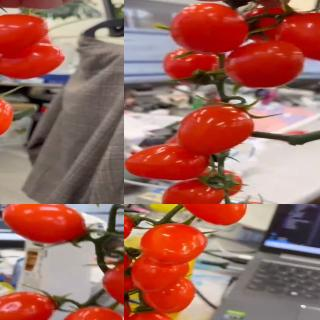tomato: (168, 0, 248, 53), (175, 100, 253, 154), (224, 40, 305, 89), (4, 204, 93, 247), (124, 141, 211, 181), (140, 221, 208, 263), (270, 11, 320, 63), (0, 42, 65, 80), (161, 47, 221, 86), (242, 6, 302, 44), (131, 253, 191, 290), (0, 12, 48, 55), (142, 276, 196, 313), (0, 290, 57, 320), (161, 178, 225, 204), (179, 204, 247, 226), (201, 169, 245, 201), (103, 259, 124, 312), (59, 306, 124, 320), (124, 263, 152, 292), (0, 94, 15, 136), (126, 310, 178, 320)
